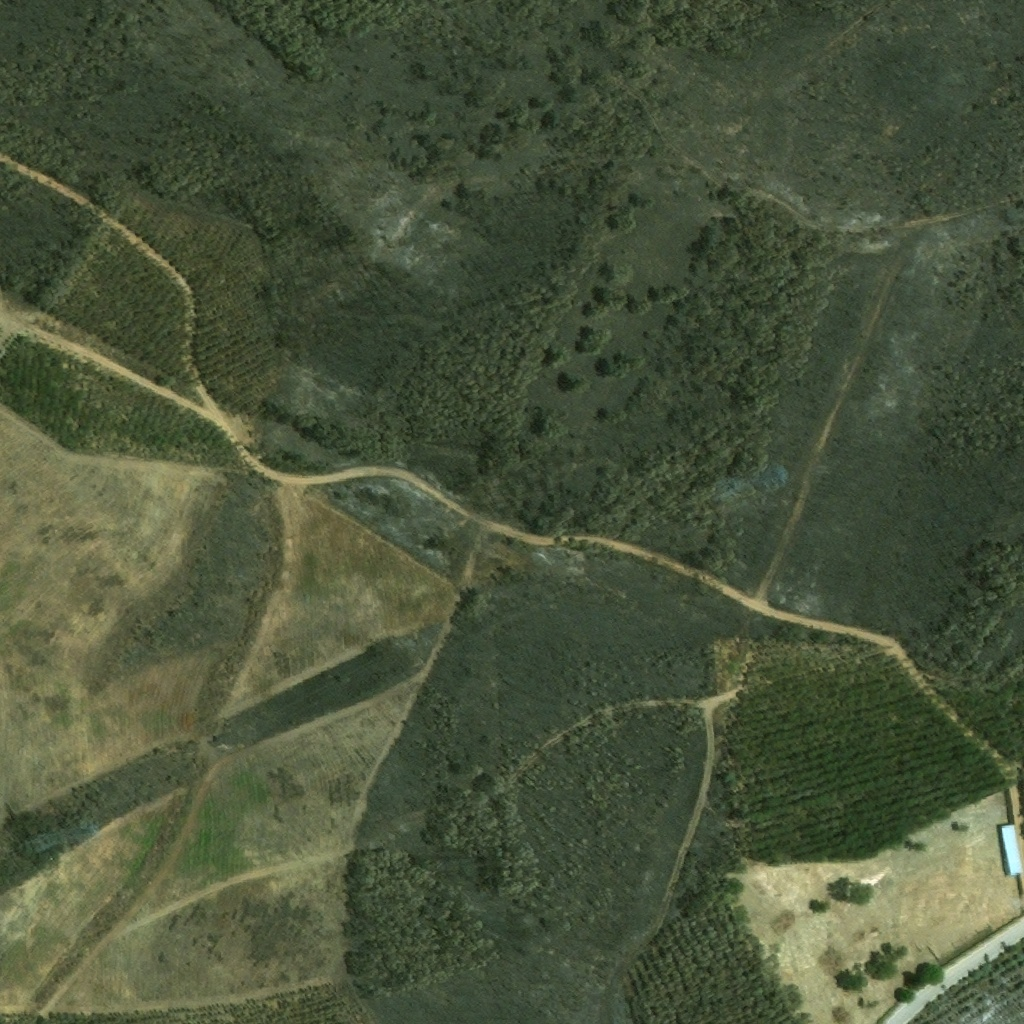0 no-damage: (1000, 825, 1023, 873)
